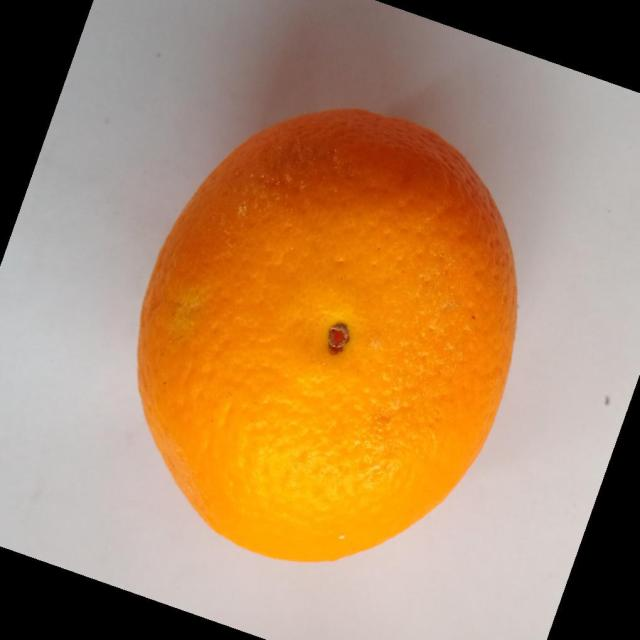fresh orange: (135, 106, 519, 563)
